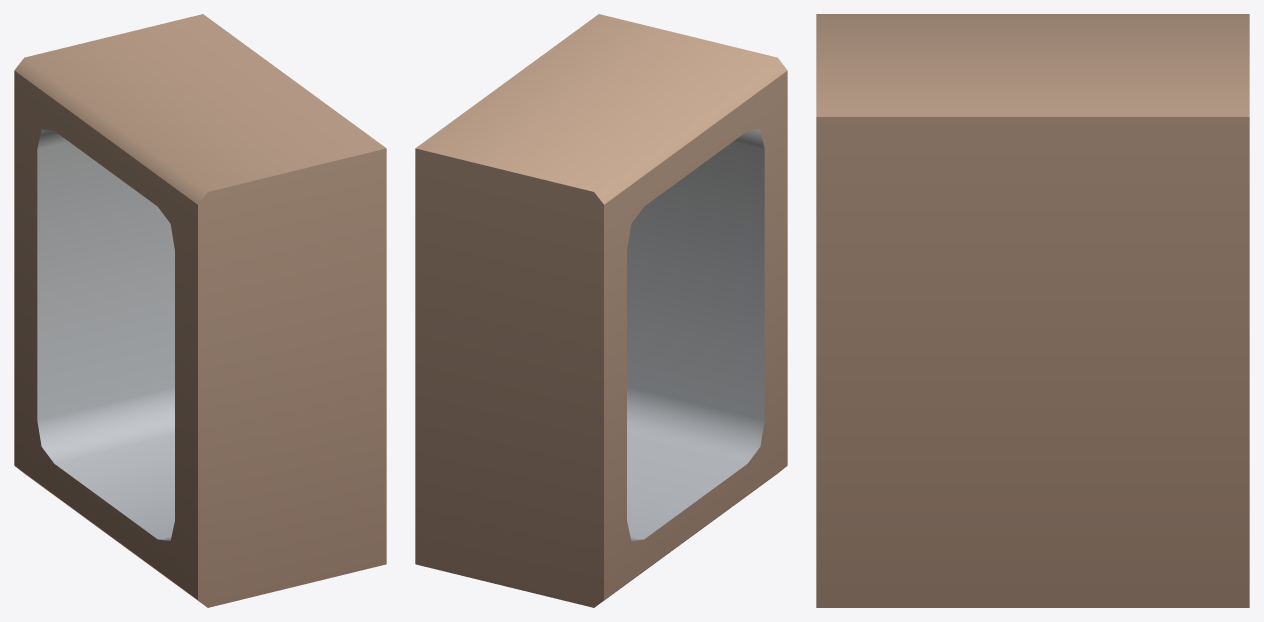
The model's file is cabinet-basic-upper-narrow (%wall).glb.
The picture shows the model from 3 angles, left to right: view 1: azimuth 30°, elevation 25°; view 2: azimuth 150°, elevation 25°; view 3: azimuth 270°, elevation 25°; orthographic projection. The views are drawn at different scales.
Parts seen in each view (by area): view 1: cabinet-basic-upper-narrow (%wall); view 2: cabinet-basic-upper-narrow (%wall); view 3: cabinet-basic-upper-narrow (%wall).
Boxes of the visible parts, x1=… form: cabinet-basic-upper-narrow (%wall): x1=14, y1=14, x2=386, y2=607; cabinet-basic-upper-narrow (%wall): x1=415, y1=14, x2=787, y2=607; cabinet-basic-upper-narrow (%wall): x1=816, y1=14, x2=1249, y2=607.
Size of the model in its own units: 0.2375 by 0.5 by 0.4.
